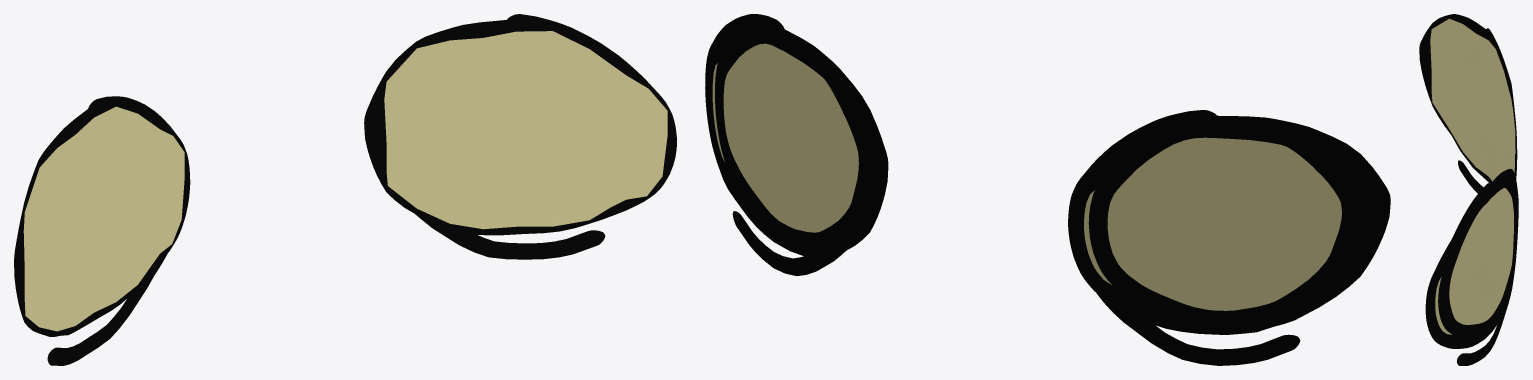
The model's file is 27-Zombie-Outrage-eyes.glb.
The picture shows the model from 3 angles, left to right: view 1: azimuth 30°, elevation 25°; view 2: azimuth 150°, elevation 25°; view 3: azimuth 270°, elevation 25°; orthographic projection. The views are drawn at different scales.
Parts seen in each view (by area): view 1: 27-Zombie-Outrage-eyes; view 2: 27-Zombie-Outrage-eyes; view 3: 27-Zombie-Outrage-eyes.
Part boxes in pixels (x1,y1,x2,y2): 27-Zombie-Outrage-eyes: (14, 14, 676, 365); 27-Zombie-Outrage-eyes: (705, 14, 1390, 365); 27-Zombie-Outrage-eyes: (1419, 14, 1518, 365).
Bounding box in the file's own units: 0.7927 × 0.2969 × 0.1464.
Materials: 6 (6 with a texture image).
